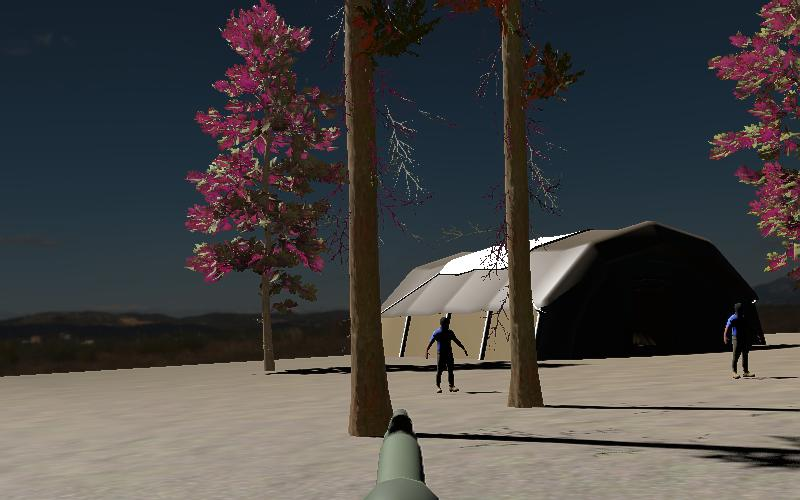Human: (424, 315, 469, 395), (722, 300, 763, 381), (721, 301, 760, 381)
